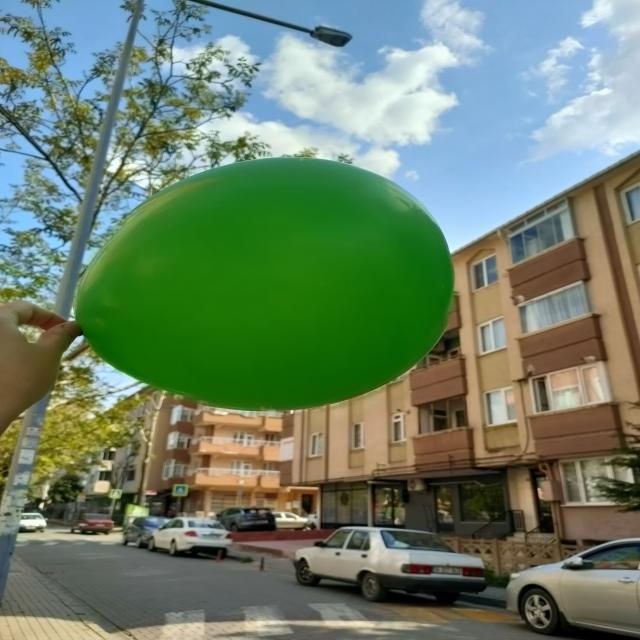green: (78, 157, 457, 411)
